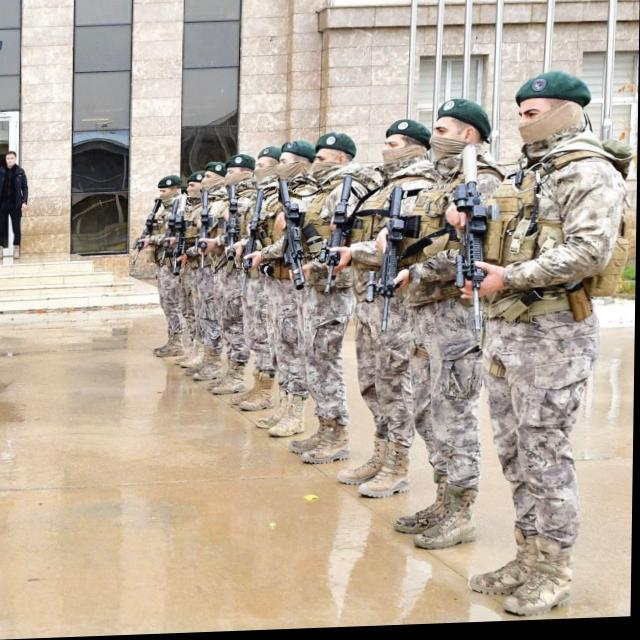poh_personel: (443, 73, 634, 623), (374, 101, 506, 550), (326, 121, 444, 498), (274, 136, 363, 466)
